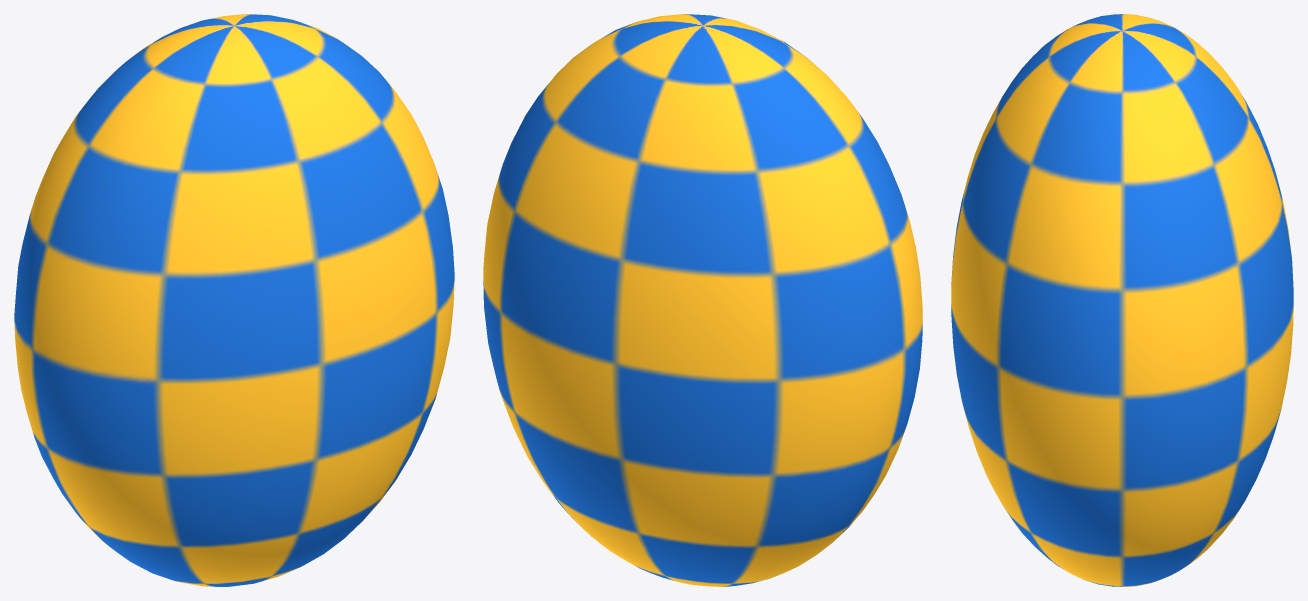
The model's file is runtime.glb.
3 renders of one model, left to right at view 1: azimuth 30°, elevation 25°; view 2: azimuth 150°, elevation 25°; view 3: azimuth 270°, elevation 25°, orthographic.
Visible parts, largest first — view 1: Synthetic_transfer_fixture; view 2: Synthetic_transfer_fixture; view 3: Synthetic_transfer_fixture.
Boxes of the visible parts, box(x1,y1,x2,y2) form: Synthetic_transfer_fixture: box(14, 14, 454, 586); Synthetic_transfer_fixture: box(483, 14, 922, 586); Synthetic_transfer_fixture: box(951, 14, 1293, 586).
Size of the model in its own units: 2 by 2.6 by 1.49.
1 material, 1 textured.
